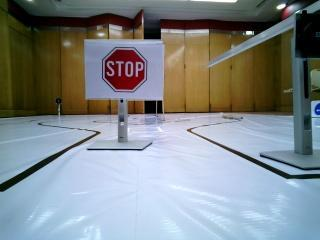stop: (81, 32, 159, 94)
